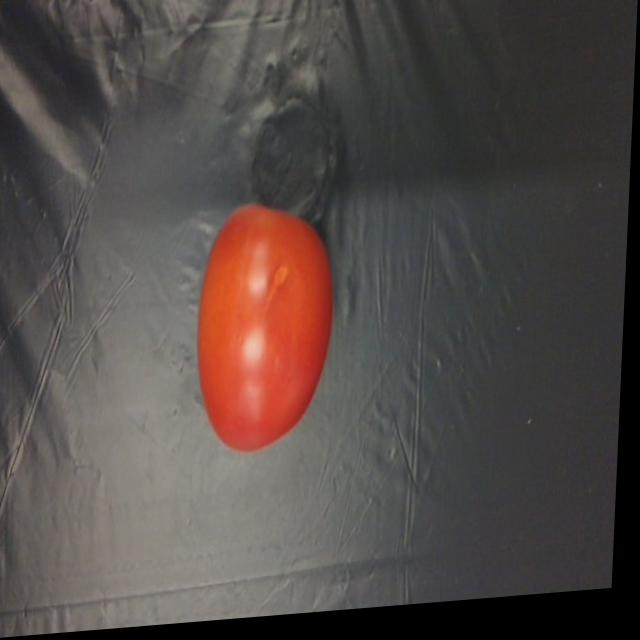kirmizi: (183, 187, 343, 463)
